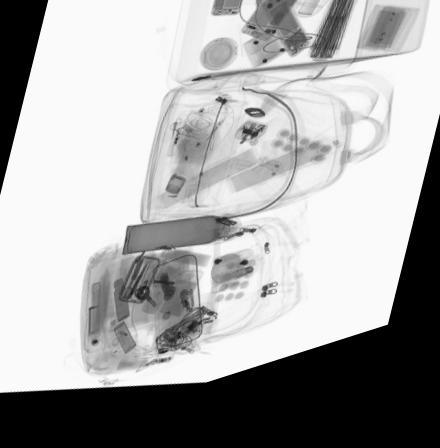Lighter: (165, 130, 185, 167)
